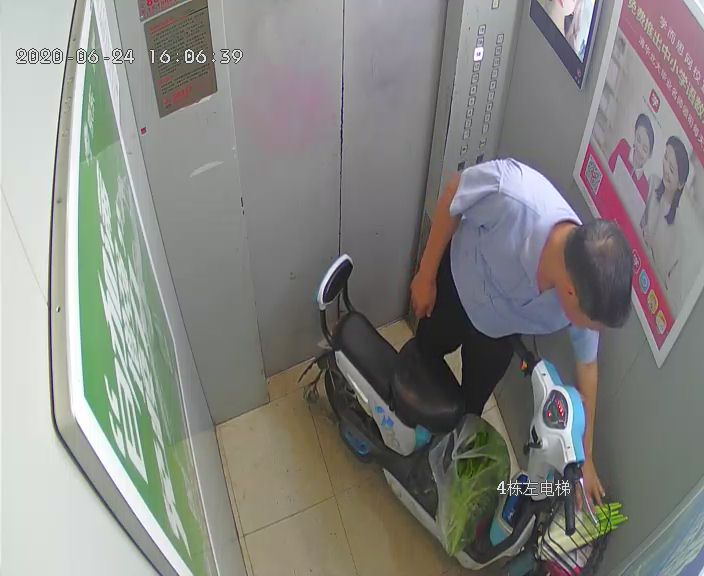Electric-bicycle: (307, 245, 617, 565)
